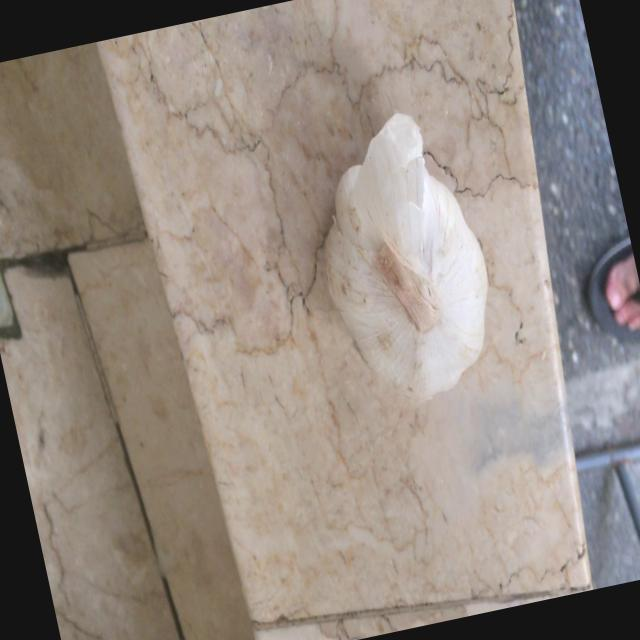garlic: (292, 96, 514, 418)
